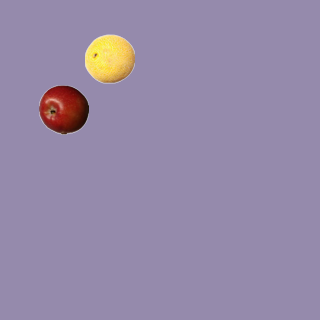Apple Braeburn: (38, 84, 88, 134)
Cantaloupe 1: (84, 33, 134, 83)
